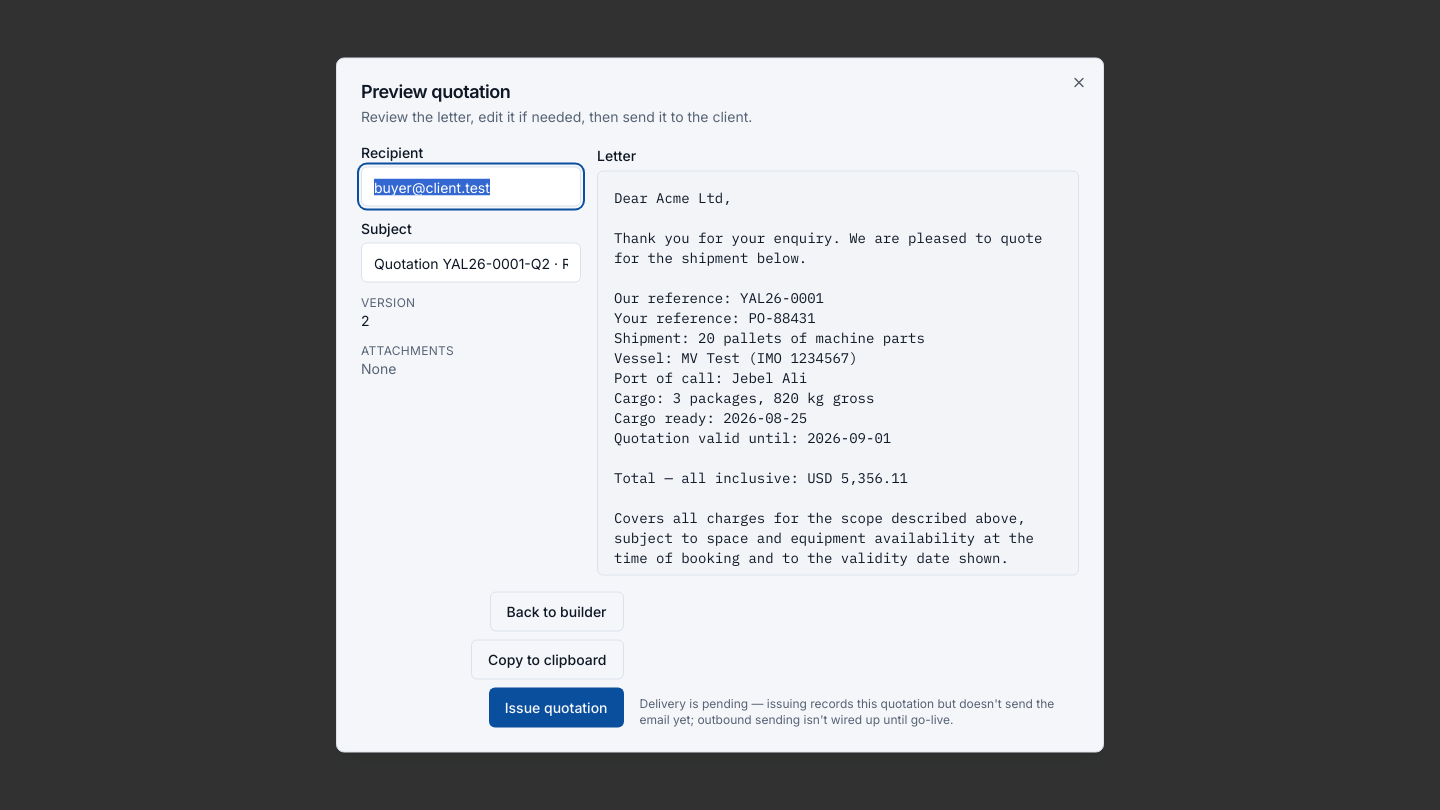
Test: QuotationPreviewDialog › surfaces an issue failure inline and keeps the dialog open
The image size is (1440, 810).
Click the button "Issue quotation" at (556, 708), box [489, 688, 624, 728]
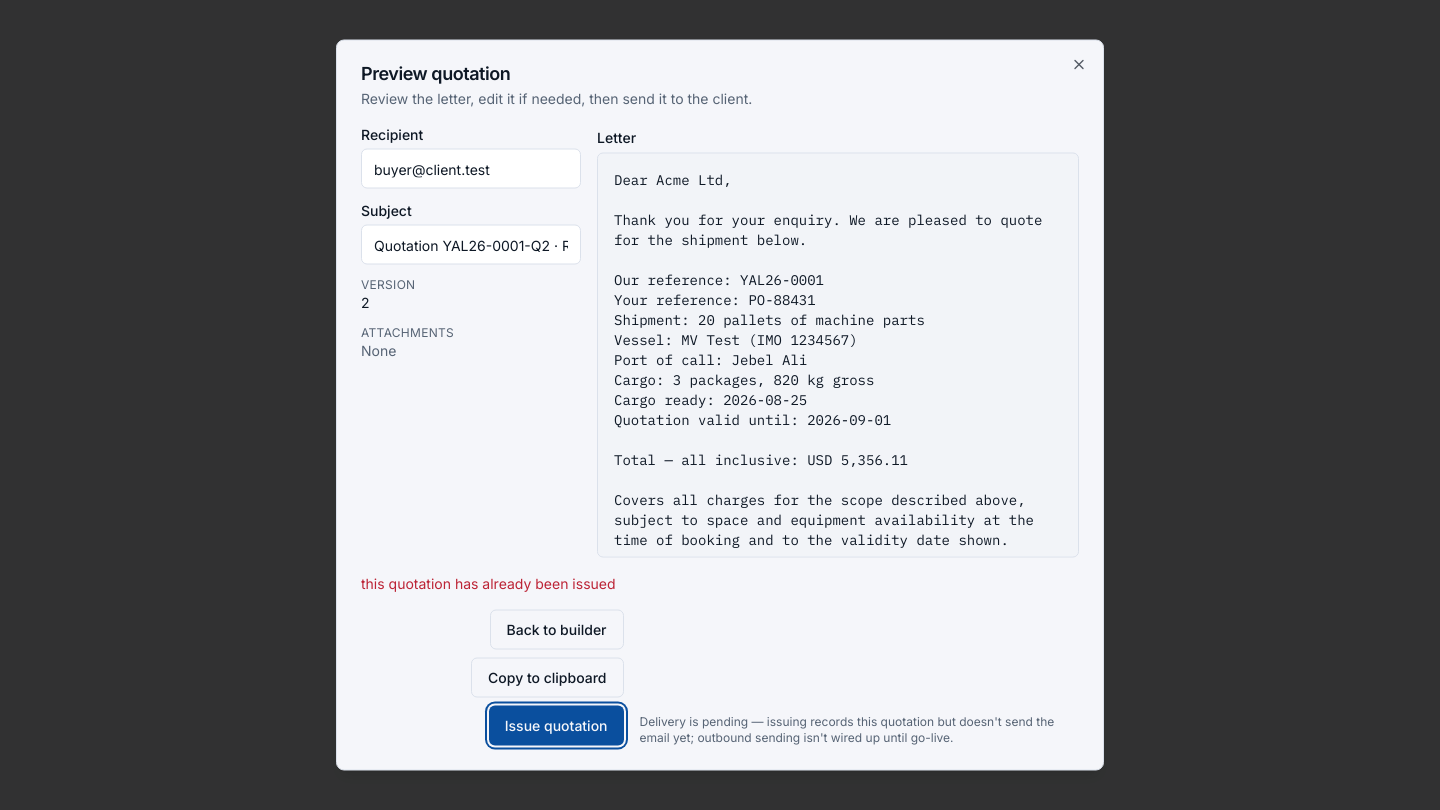
Result: the message shows "already been issued" at [361, 574, 616, 592]
